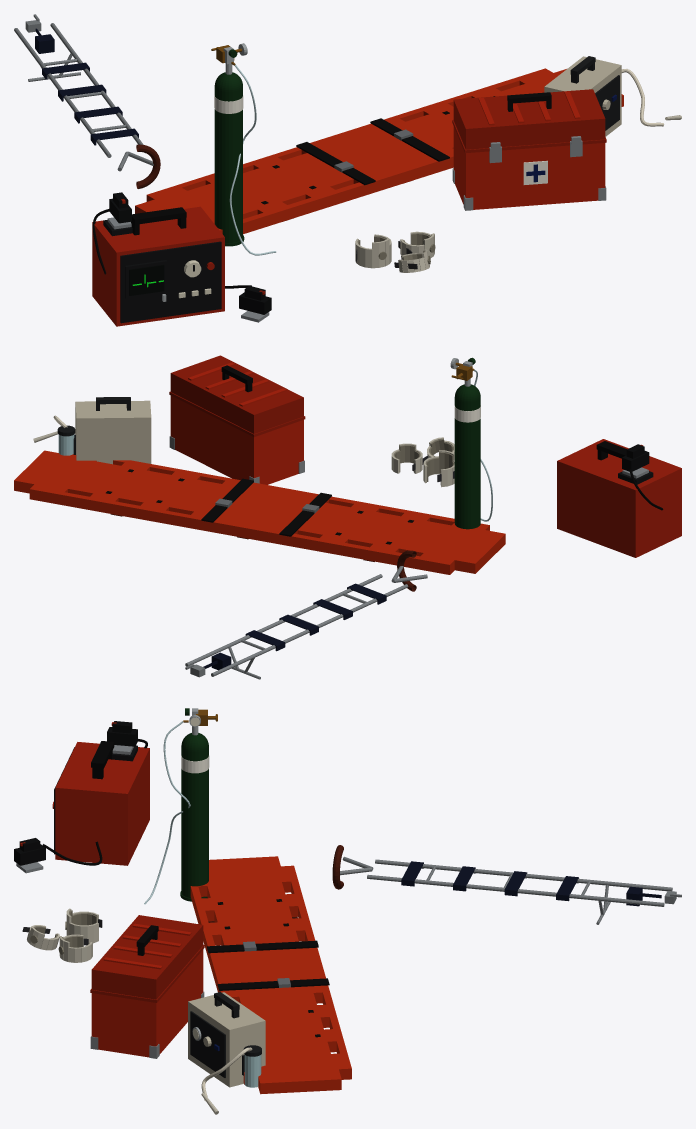
Rendered from EmsEquipment1991.obj.
3 views of the same model, one above another, from view 1: azimuth 30°, elevation 25°; view 2: azimuth 150°, elevation 25°; view 3: azimuth 270°, elevation 25° (orthographic). The views are drawn at different scales.
Parts seen in each view (by area): view 1: EmsEquipment1991; view 2: EmsEquipment1991; view 3: EmsEquipment1991.
Boxes of the visible parts, x1=… form: EmsEquipment1991: x1=14, y1=14, x2=681, y2=326; EmsEquipment1991: x1=14, y1=355, x2=681, y2=679; EmsEquipment1991: x1=14, y1=708, x2=681, y2=1114.
Bounding box in the file's own units: 2.7 × 0.787 × 2.53.
